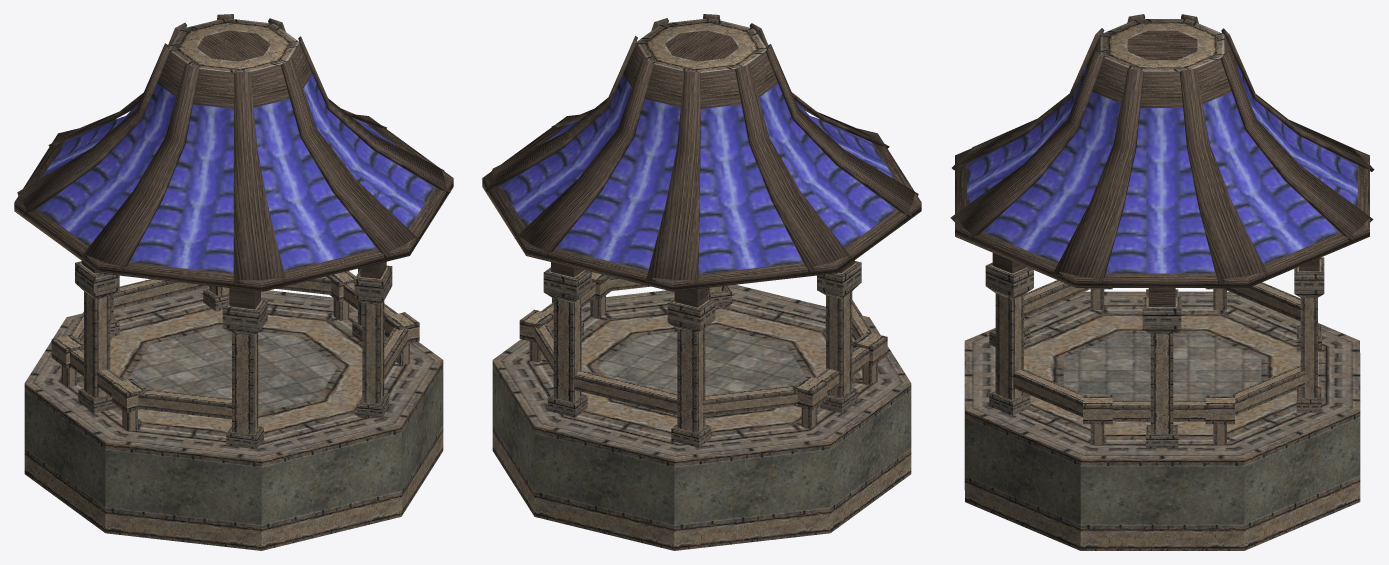
File: kioskijp2.fbx
3 views of the same model, side by side, from view 1: azimuth 30°, elevation 25°; view 2: azimuth 150°, elevation 25°; view 3: azimuth 270°, elevation 25° (orthographic).
Visible parts, largest first — view 1: Cube.005; view 2: Cube.005; view 3: Cube.005.
Part boxes in pixels (x1=…): Cube.005: x1=14, y1=14, x2=453, y2=550; Cube.005: x1=482, y1=14, x2=921, y2=550; Cube.005: x1=950, y1=14, x2=1374, y2=550.
Size of the model in its own units: 5.23 by 5.79 by 5.23.
